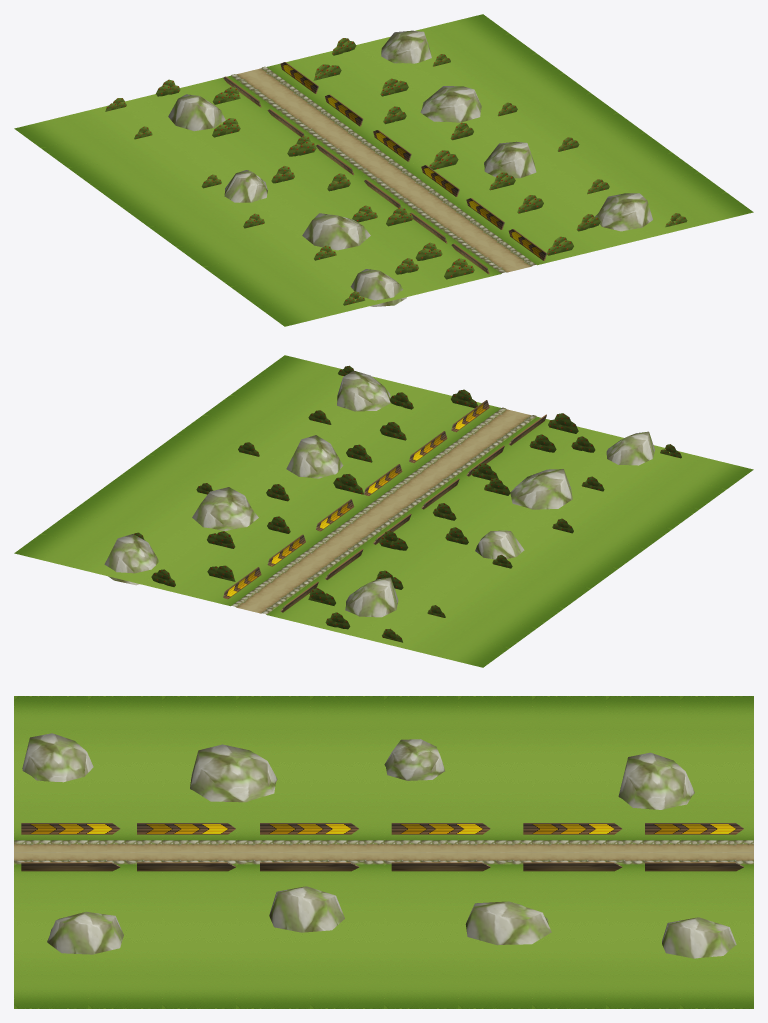
The model's file is ForestRoad02.FBX.
The picture shows the model from 3 angles, top to bottom: view 1: azimuth 30°, elevation 25°; view 2: azimuth 150°, elevation 25°; view 3: azimuth 270°, elevation 25°; orthographic projection. The views are drawn at different scales.
Parts seen in each view (by area): view 1: Road (×2), Stone (×8); view 2: Road (×2), Stone (×8); view 3: Road (×2), Stone (×8), Fence (×12).
Part boxes in pixels (x1=…): Road (×2): x1=14, y1=14, x2=753, y2=326; Stone (×8): x1=168, y1=30, x2=652, y2=306; Road (×2): x1=14, y1=355, x2=753, y2=667; Stone (×8): x1=104, y1=370, x2=654, y2=617; Road (×2): x1=14, y1=696, x2=753, y2=1008; Stone (×8): x1=22, y1=733, x2=736, y2=958; Fence (×12): x1=21, y1=823, x2=743, y2=871.
Bounding box in the file's own units: 10000 × 651 × 10000.
